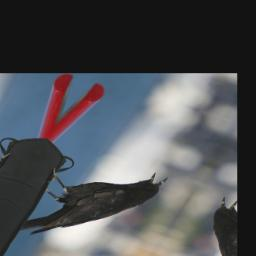Crow: (10, 141, 171, 256)
